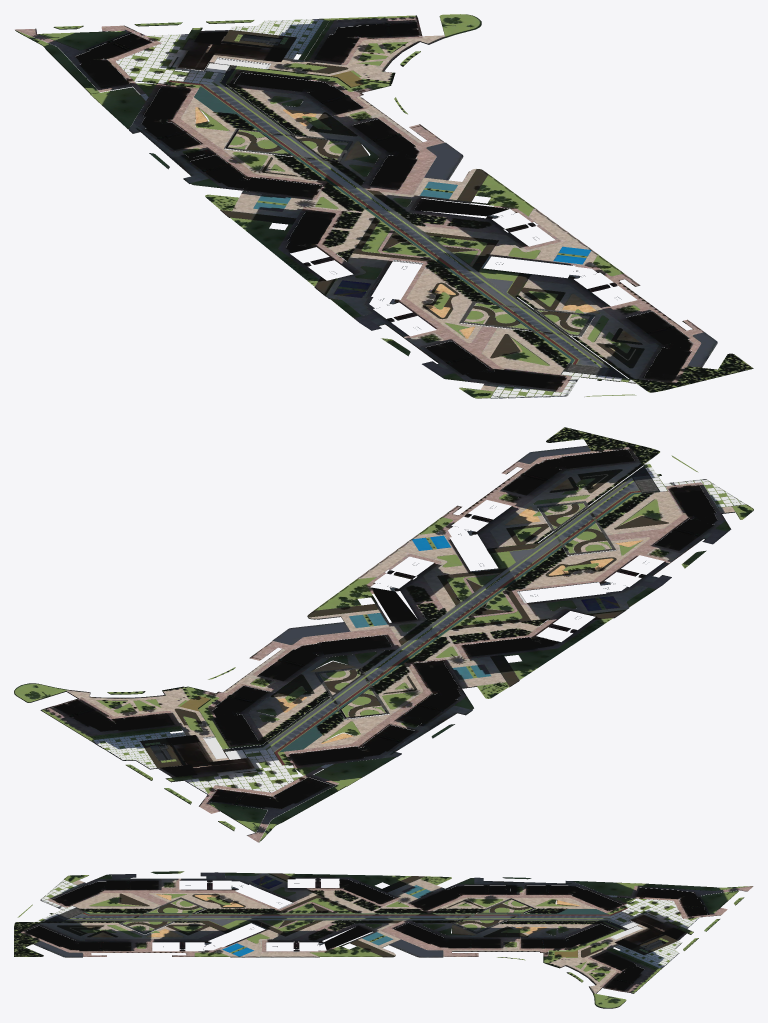
File: Yaafour_background.glb
3 renders of one model, top to bottom at view 1: azimuth 30°, elevation 25°; view 2: azimuth 150°, elevation 25°; view 3: azimuth 270°, elevation 25°, orthographic. The views are drawn at different scales.
Parts seen in each view (by area): view 1: grass_bake; view 2: grass_bake; view 3: grass_bake.
Boxes of the visible parts, box(x1,y1,x2,y2) form: grass_bake: box(15, 14, 753, 398); grass_bake: box(14, 427, 753, 842); grass_bake: box(14, 871, 753, 1008).
Bounding box in the file's own units: 309 × 3.77 × 708.
3 materials, 3 textured.
